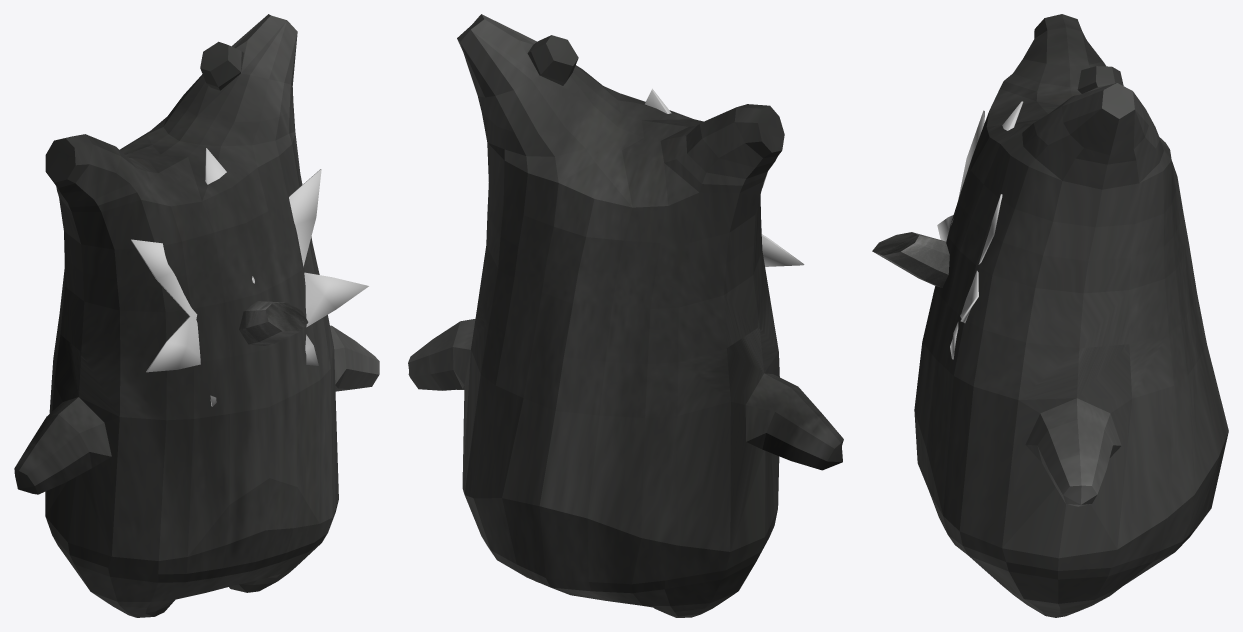
The model's file is frame_0066.obj.
The picture shows the model from 3 angles, left to right: view 1: azimuth 30°, elevation 25°; view 2: azimuth 150°, elevation 25°; view 3: azimuth 270°, elevation 25°; orthographic projection. The views are drawn at different scales.
Visible parts, largest first — view 1: korok, leaf.003_柱体.013, nose.003_柱体.011; view 2: korok, leaf.003_柱体.013; view 3: korok, nose.003_柱体.011, leaf.003_柱体.013.
Boxes of the visible parts, left/top/right/bottom form: korok: left=14, top=14, right=379, bottom=617; leaf.003_柱体.013: left=131, top=148, right=368, bottom=406; nose.003_柱体.011: left=239, top=301, right=308, bottom=345; korok: left=408, top=14, right=843, bottom=617; leaf.003_柱体.013: left=645, top=88, right=804, bottom=266; korok: left=914, top=14, right=1228, bottom=617; nose.003_柱体.011: left=872, top=232, right=949, bottom=287; leaf.003_柱体.013: left=937, top=101, right=1023, bottom=359.
Size of the model in its own units: 1.69 by 2.28 by 1.32.
